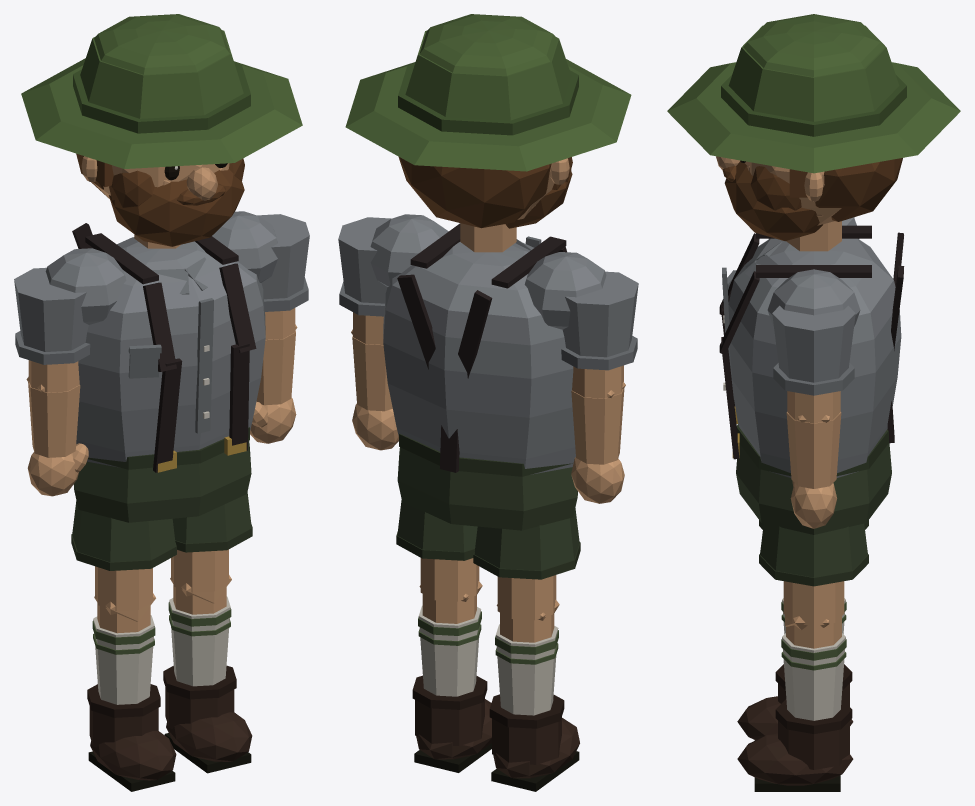
The model's file is angler.glb.
The picture shows the model from 3 angles, left to right: view 1: azimuth 30°, elevation 25°; view 2: azimuth 150°, elevation 25°; view 3: azimuth 270°, elevation 25°; orthographic projection.
Visible parts, largest first — view 1: part10, part3, part11, part13, part15, part12, part6, part14, part9, part5, part8, part4 (+1 smaller); view 2: part10, part3, part11, part13, part15, part12, part6, part14, part9, part5, part8, part4 (+2 smaller); view 3: part3, part10, part13, part14, part9, part15, part8, part11, part7, part0.
Boxes of the visible parts, box(x1,y1,x2,y2) form: part10: box(45, 211, 277, 472); part3: box(21, 14, 302, 246); part11: box(87, 593, 176, 791); part13: box(163, 575, 252, 773); part15: box(73, 427, 251, 522); part12: box(71, 501, 176, 610); part6: box(14, 267, 90, 392); part14: box(171, 492, 252, 592); part9: box(257, 214, 309, 339); part5: box(26, 376, 80, 457); part8: box(256, 324, 297, 405); part4: box(27, 443, 88, 496); part10: box(370, 214, 606, 474); part3: box(345, 14, 631, 228); part11: box(489, 600, 579, 791); part13: box(412, 581, 491, 772); part15: box(397, 433, 577, 530); part12: box(473, 508, 580, 620); part6: box(561, 271, 638, 398); part14: box(396, 500, 479, 601); part9: box(338, 217, 391, 344); part5: box(571, 381, 625, 464); part8: box(351, 329, 392, 411); part4: box(571, 457, 624, 503); part3: box(667, 14, 960, 241); part10: box(719, 217, 904, 477); part13: box(737, 615, 853, 791); part14: box(759, 523, 868, 626); part9: box(772, 305, 855, 423); part15: box(736, 424, 891, 534); part8: box(786, 412, 841, 488); part11: box(737, 598, 853, 740); part7: box(790, 481, 837, 528); part0: box(786, 221, 841, 251).
Size of the model in its own units: 1.07 by 2.57 by 0.936.
